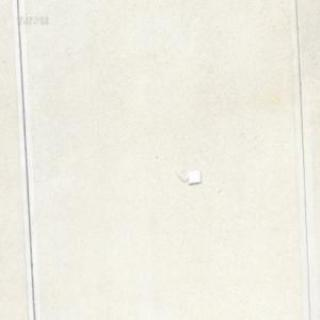LuggageTagtrack_idkeyframe: (173, 166, 200, 183)
